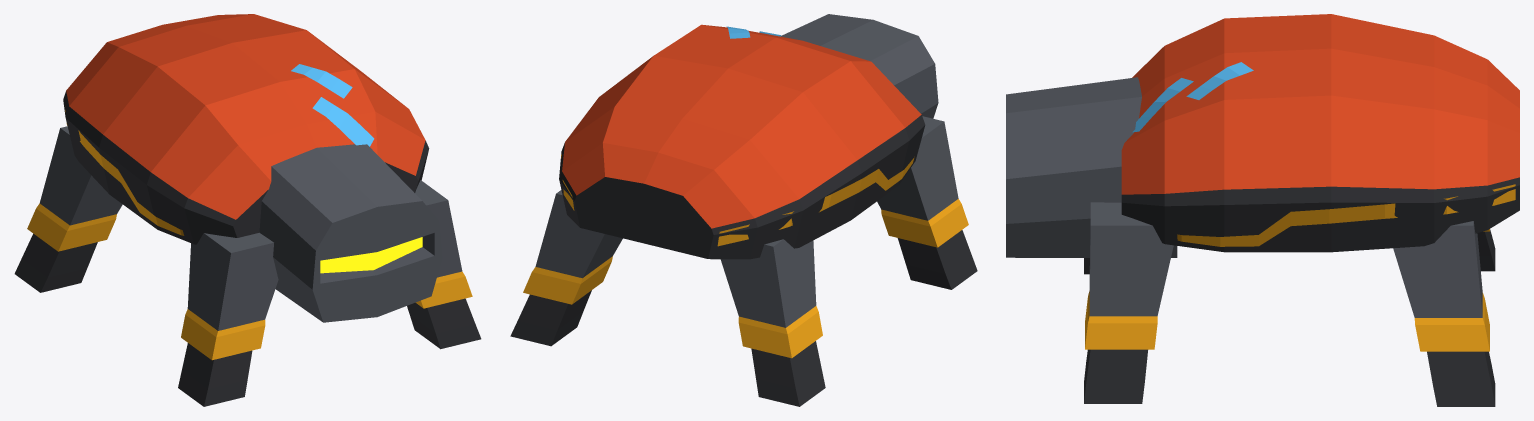
Rendered from crawler.glb.
3 renders of one model, left to right at view 1: azimuth 30°, elevation 25°; view 2: azimuth 150°, elevation 25°; view 3: azimuth 270°, elevation 25°, orthographic. The views are drawn at different scales.
Visible parts, largest first — view 1: GEO-crawler-hull, GEO-crawler-cowl, GEO-crawler-leg-FL, GEO-crawler-leg-BL, GEO-crawler-leg-FR, GEO-crawler-visor, DECAL-blue-2, DECAL-band-L, DECAL-blue-1; view 2: GEO-crawler-hull, GEO-crawler-leg-BL, GEO-crawler-leg-FL, GEO-crawler-leg-BR, GEO-crawler-cowl, DECAL-band-L; view 3: GEO-crawler-hull, GEO-crawler-cowl, GEO-crawler-leg-FR, GEO-crawler-leg-BR, DECAL-band-R, DECAL-blue-1, DECAL-blue-2, GEO-crawler-leg-BL.
Boxes of the visible parts, box(x1,y1,x2,y2) form: GEO-crawler-hull: box(63, 14, 429, 244); GEO-crawler-cowl: box(259, 144, 442, 322); GEO-crawler-leg-FL: box(178, 232, 278, 406); GEO-crawler-leg-BL: box(14, 126, 122, 292); GEO-crawler-leg-FR: box(407, 180, 481, 349); GEO-crawler-visor: box(320, 237, 422, 273); DECAL-blue-2: box(312, 97, 374, 146); DECAL-band-L: box(65, 110, 184, 235); DECAL-blue-1: box(291, 64, 352, 98); GEO-crawler-hull: box(559, 24, 925, 259); GEO-crawler-leg-BL: box(720, 239, 825, 406); GEO-crawler-leg-FL: box(877, 116, 977, 289); GEO-crawler-leg-BR: box(510, 190, 622, 346); GEO-crawler-cowl: box(780, 14, 938, 118); DECAL-band-L: box(717, 156, 914, 246); GEO-crawler-hull: box(1121, 14, 1519, 252); GEO-crawler-cowl: box(1006, 77, 1177, 257); GEO-crawler-leg-FR: box(1084, 202, 1173, 403); GEO-crawler-leg-BR: box(1393, 221, 1495, 406); DECAL-band-R: box(1177, 184, 1515, 246); DECAL-blue-1: box(1186, 62, 1253, 99); DECAL-blue-2: box(1132, 78, 1193, 132); GEO-crawler-leg-BL: box(1477, 229, 1495, 271).
Size of the model in its own units: 1.75 by 1.44 by 2.4.
